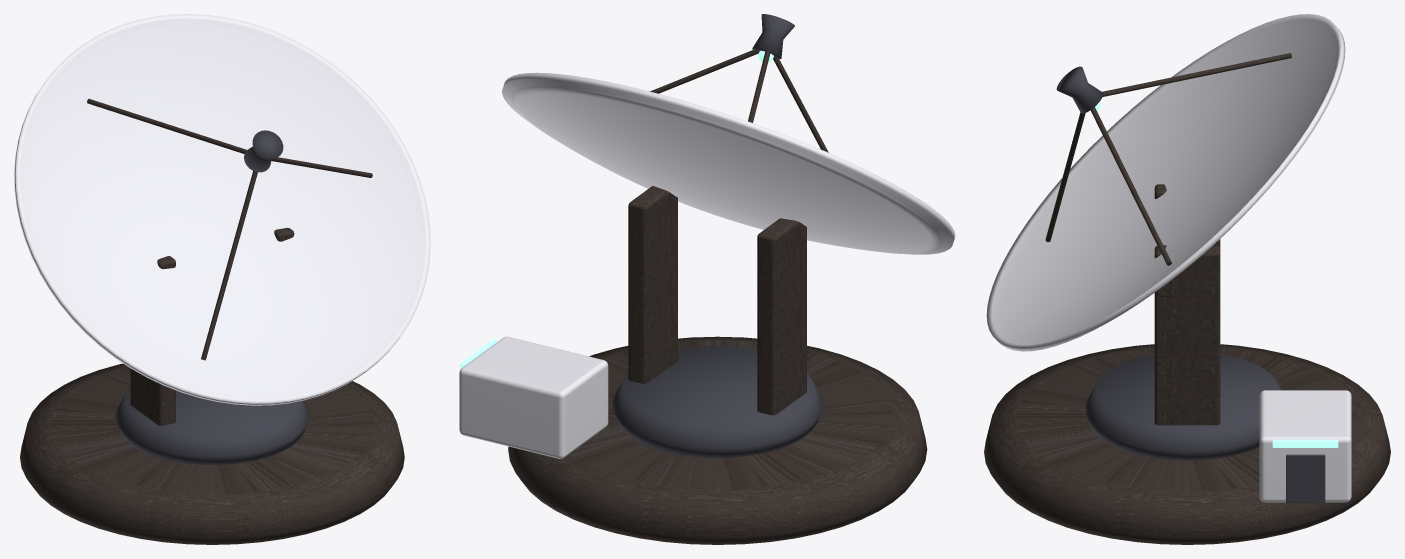
The model's file is yp_dish.glb.
The picture shows the model from 3 angles, left to right: view 1: azimuth 30°, elevation 25°; view 2: azimuth 150°, elevation 25°; view 3: azimuth 270°, elevation 25°; orthographic projection. The views are drawn at different scales.
Visible parts, largest first — view 1: dish, plinth, turntable, yoke, horn, Cylinder.002, Cylinder.001, Cylinder; view 2: plinth, dish, turntable, hut, yoke, yoke.001, horn, Cylinder, Cylinder.002; view 3: dish, plinth, turntable, yoke.001, hut, hut_door, horn, Cylinder.001, Cylinder, Cylinder.002, hut_light.
Part boxes in pixels (x1=…): dish: x1=14, y1=14, x2=430, y2=405; plinth: x1=20, y1=363, x2=404, y2=544; turntable: x1=115, y1=387, x2=308, y2=464; yoke: x1=130, y1=256, x2=175, y2=425; horn: x1=244, y1=130, x2=283, y2=172; Cylinder.002: x1=201, y1=171, x2=257, y2=360; Cylinder.001: x1=87, y1=98, x2=246, y2=153; Cylinder: x1=271, y1=157, x2=372, y2=177; plinth: x1=508, y1=336, x2=927, y2=544; dish: x1=502, y1=72, x2=955, y2=254; turntable: x1=612, y1=345, x2=822, y2=457; hut: x1=459, y1=336, x2=608, y2=458; yoke: x1=757, y1=218, x2=806, y2=415; yoke.001: x1=628, y1=186, x2=677, y2=383; horn: x1=752, y1=14, x2=794, y2=59; Cylinder: x1=650, y1=50, x2=759, y2=93; Cylinder.002: x1=773, y1=56, x2=828, y2=152; dish: x1=986, y1=14, x2=1345, y2=351; plinth: x1=984, y1=344, x2=1390, y2=544; turntable: x1=1085, y1=354, x2=1281, y2=460; yoke.001: x1=1154, y1=245, x2=1220, y2=425; hut: x1=1259, y1=390, x2=1351, y2=502; hut_door: x1=1286, y1=454, x2=1325, y2=502; horn: x1=1056, y1=66, x2=1103, y2=113; Cylinder.001: x1=1102, y1=53, x2=1291, y2=96; Cylinder: x1=1090, y1=107, x2=1171, y2=265; Cylinder.002: x1=1045, y1=112, x2=1085, y2=242; hut_light: x1=1272, y1=439, x2=1338, y2=447.
Size of the model in its own units: 3.53 by 3.5 by 3.1.
4 materials, 1 textured.
